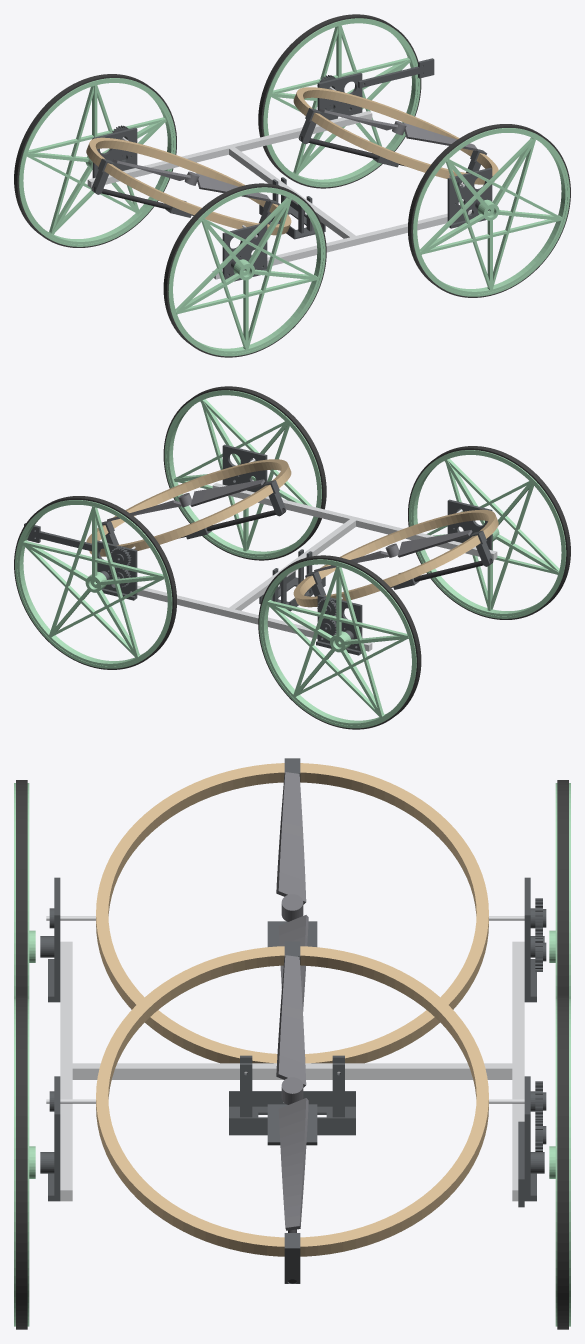
The model's file is wall_climber_body.glb.
The picture shows the model from 3 angles, top to bottom: view 1: azimuth 30°, elevation 25°; view 2: azimuth 150°, elevation 25°; view 3: azimuth 270°, elevation 25°; orthographic projection. The views are drawn at different scales.
Parts seen in each view (by area): view 1: wheel_FR, wheel_RR, wheel_RL, wheel_FL, hoop_F, hoop_R, rail.001, tire_RR, tire_FR, rail.002, tire_RL, tire_FL (+9 smaller); view 2: wheel_FL, wheel_RL, wheel_RR, wheel_FR, hoop_R, hoop_F, rail.002, tire_RL, tire_FL, tire_FR, tire_RR, rail.001 (+9 smaller); view 3: hoop_F, hoop_R, prop_F, beam.001, tray.001, prop_R, tire_FL, tire_FR, rail.002, rail.001, tire_RL, tire_RR (+10 smaller).
Boxes of the visible parts, x1,y1,x2,y2 form: wheel_FR: (412,128,569,296); wheel_RR: (168,187,325,356); wheel_RL: (18,78,175,246); wheel_FL: (263,18,420,187); hoop_F: (293,87,498,184); hoop_R: (86,137,291,235); rail.001: (87,111,372,188); tire_RR: (163,183,326,357); tire_FR: (408,124,570,297); rail.002: (212,209,471,279); tire_RL: (14,74,176,247); tire_FL: (258,14,421,188); wheel_FL: (15,500,172,668); wheel_RL: (259,559,416,728); wheel_RR: (409,450,566,618); wheel_FR: (164,390,321,559); hoop_R: (293,509,498,607); hoop_F: (86,459,291,556); rail.002: (212,483,497,560); tire_RL: (258,555,421,729); tire_FL: (14,496,176,669); tire_FR: (163,386,326,560); tire_RR: (408,446,570,619); rail.001: (88,574,372,651); hoop_F: (96,946,488,1256); hoop_R: (96,763,488,1063); prop_F: (276,955,308,1230); beam.001: (72,1063,512,1079); tray.001: (229,1055,355,1135); prop_R: (276,772,308,1011); tire_FL: (557,995,568,1329); tire_FR: (16,995,27,1329); rail.002: (60,941,72,1201); rail.001: (512,941,524,1201); tire_RL: (557,780,568,995); tire_RR: (16,780,27,995).
Size of the model in its own units: 0.549 by 0.216 by 0.36.
